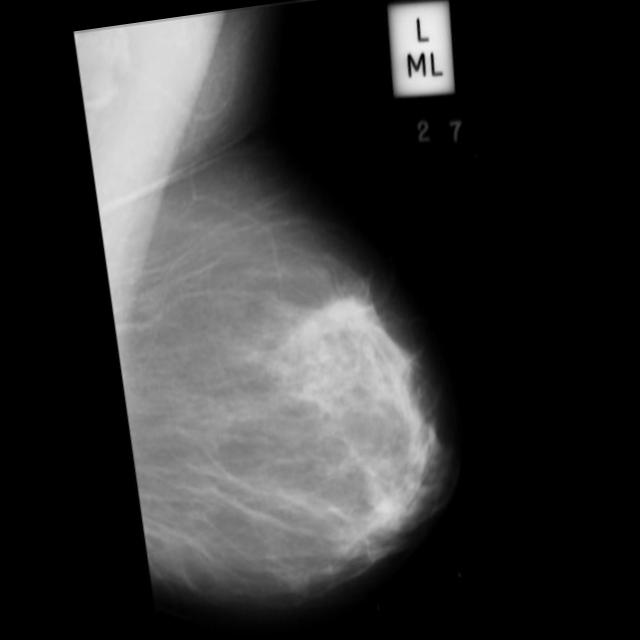ASYM: (328, 292, 369, 334)
